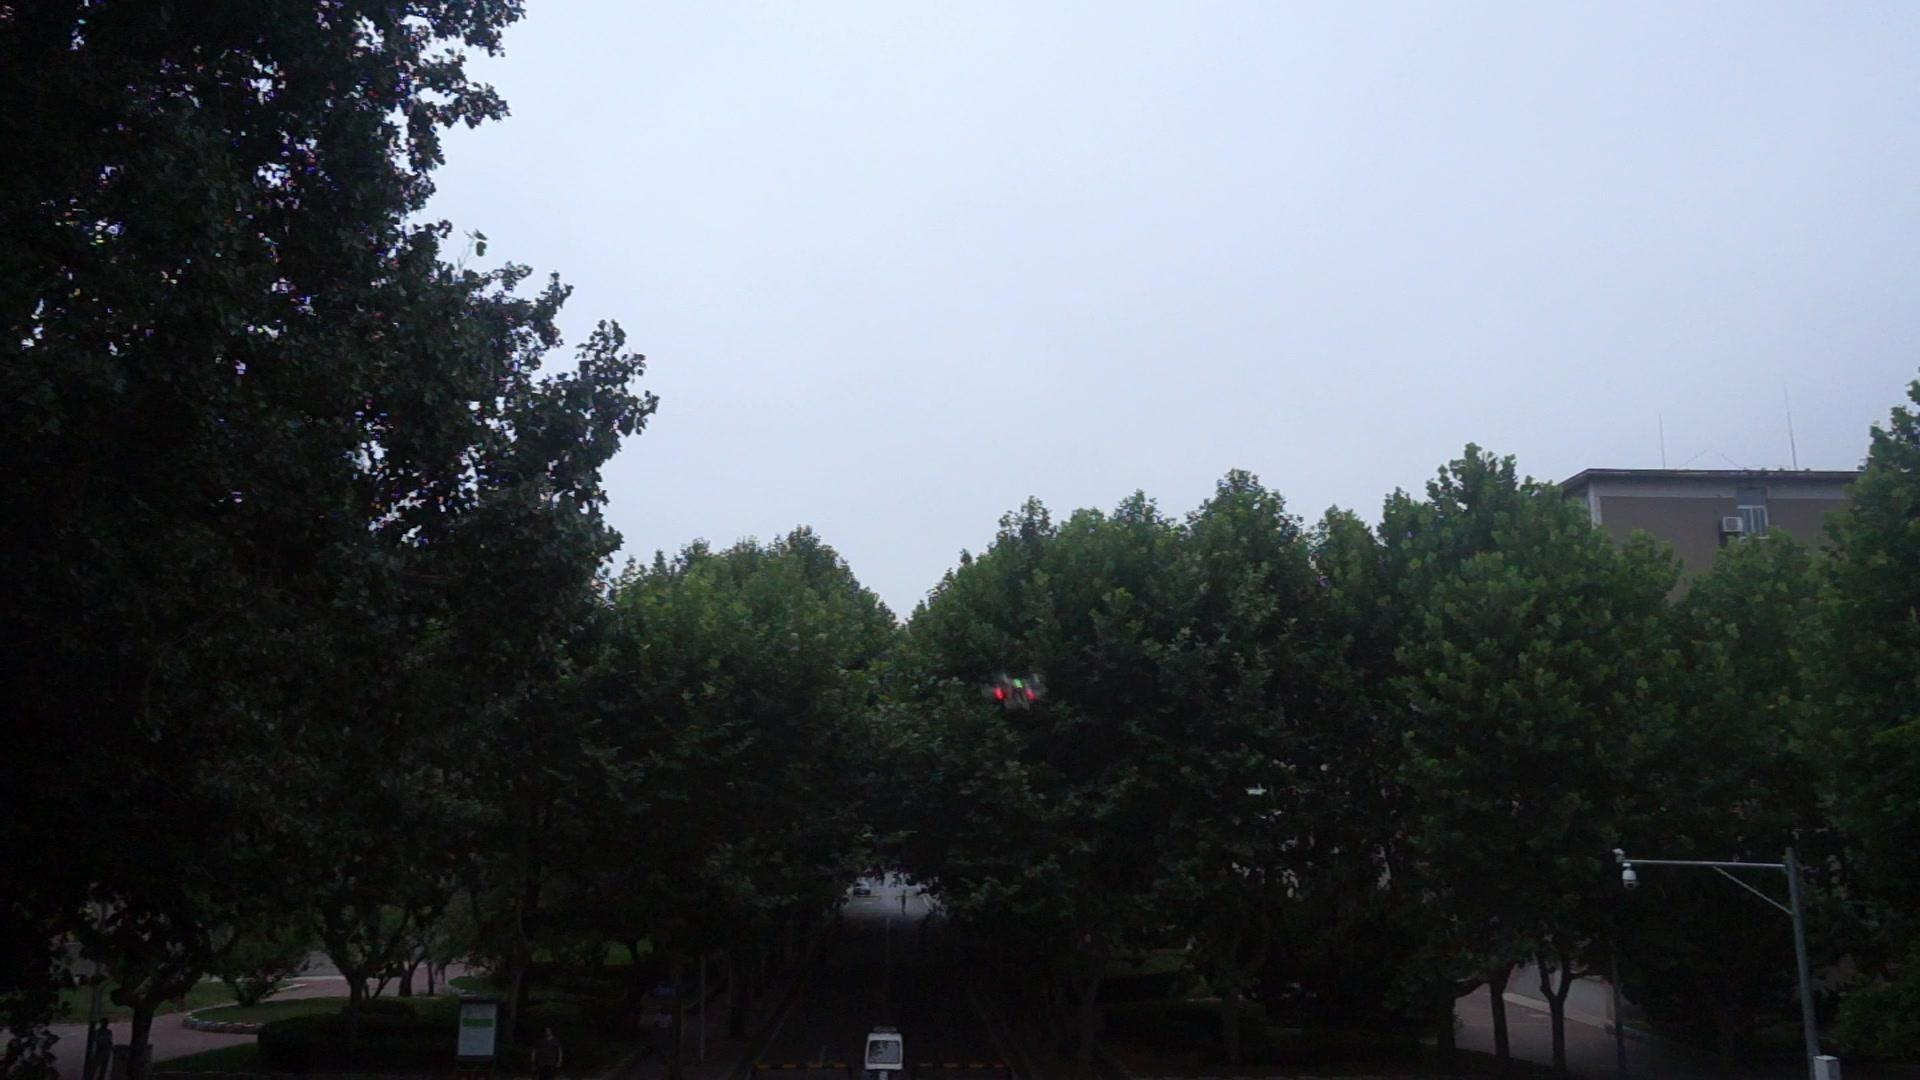UAV: (982, 673, 1048, 711)
